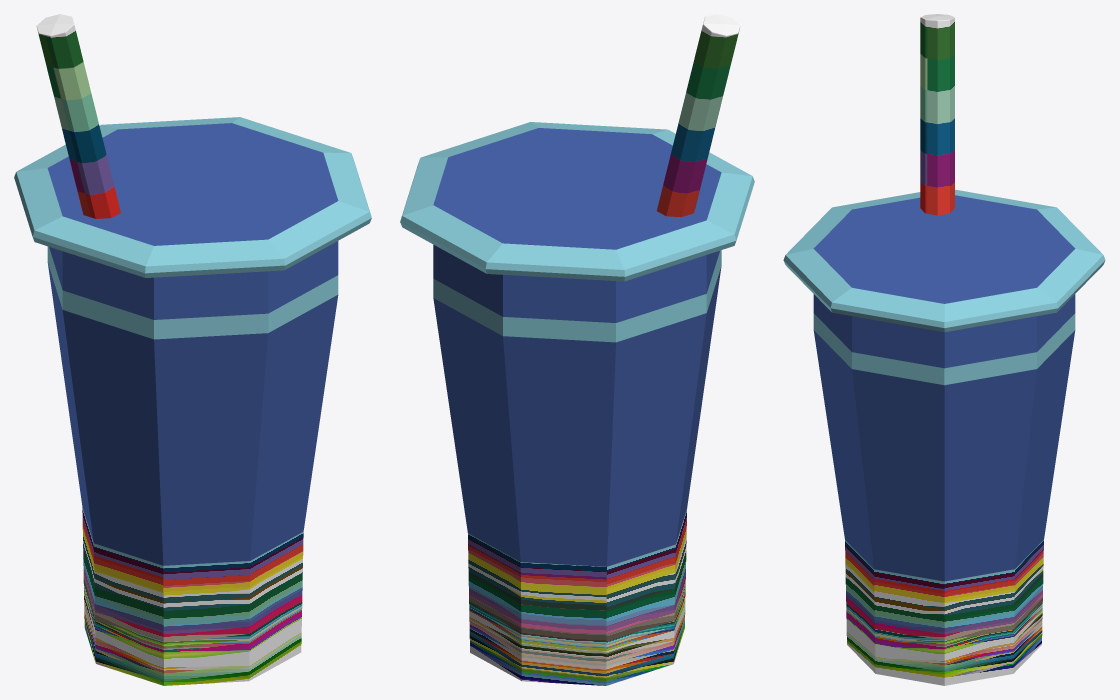
The model's file is SM_Drink_1.fbx.
3 renders of one model, left to right at view 1: azimuth 30°, elevation 25°; view 2: azimuth 150°, elevation 25°; view 3: azimuth 270°, elevation 25°, orthographic. The views are drawn at different scales.
Parts seen in each view (by area): view 1: SM_Drink_1_LOD0; view 2: SM_Drink_1_LOD0; view 3: SM_Drink_1_LOD0.
Part boxes in pixels (x1,y1,x2,y2): SM_Drink_1_LOD0: [14, 14, 371, 685]; SM_Drink_1_LOD0: [400, 14, 754, 685]; SM_Drink_1_LOD0: [783, 14, 1105, 685].
Size of the model in its own units: 12.17 by 12.17 by 23.8.
1 material, 1 textured.
